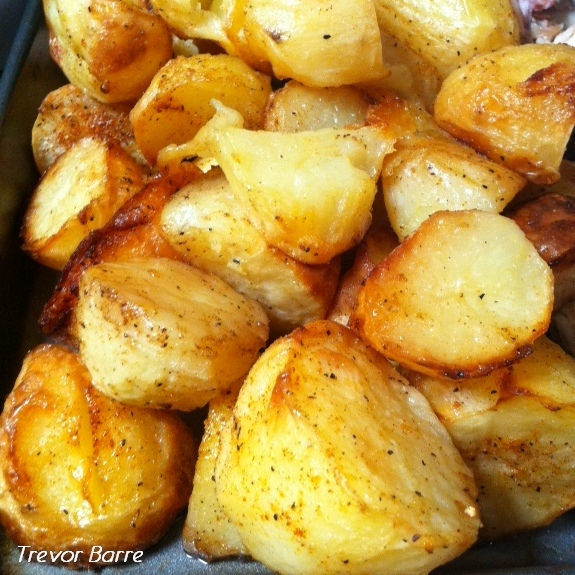boiled potatoes: (233, 329, 462, 574), (362, 210, 555, 370), (79, 255, 270, 398), (202, 120, 378, 248)
